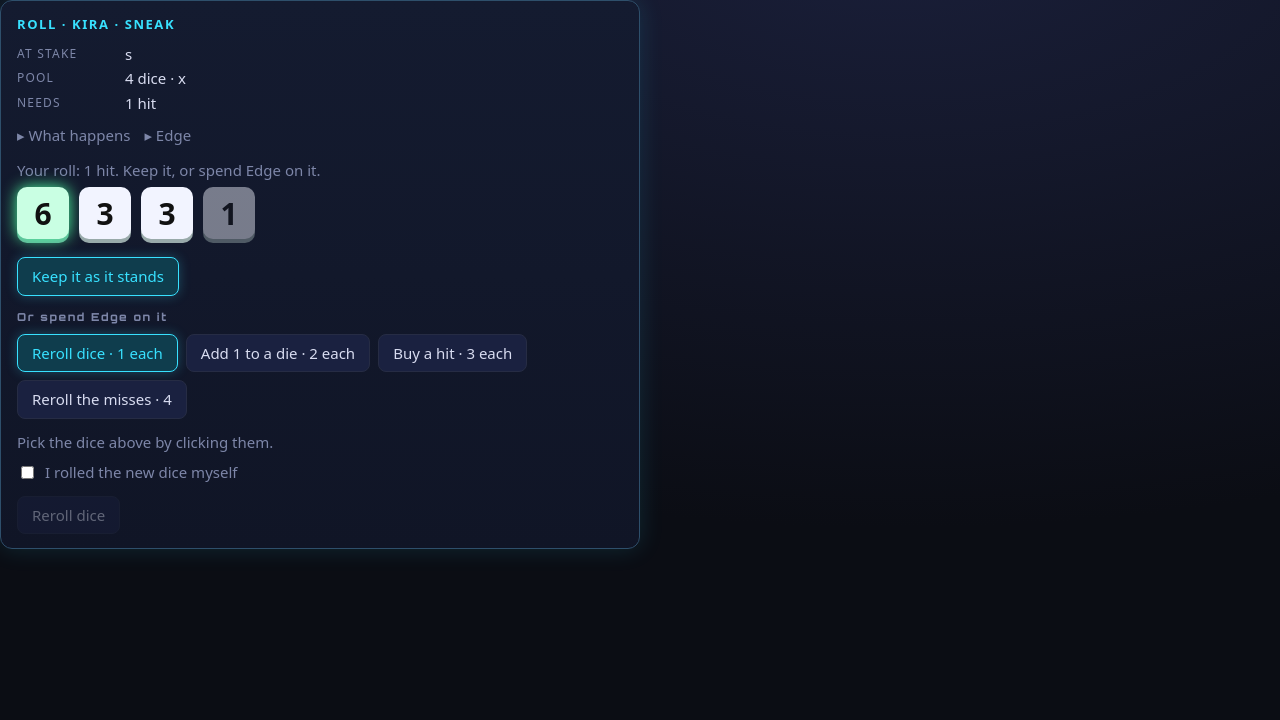
a roll that is held › will not spend what the player does not have, and says so, without sending
Click the radio button labelled "Buy a hit · 3 each" at (453, 353), box [378,334,527,372]
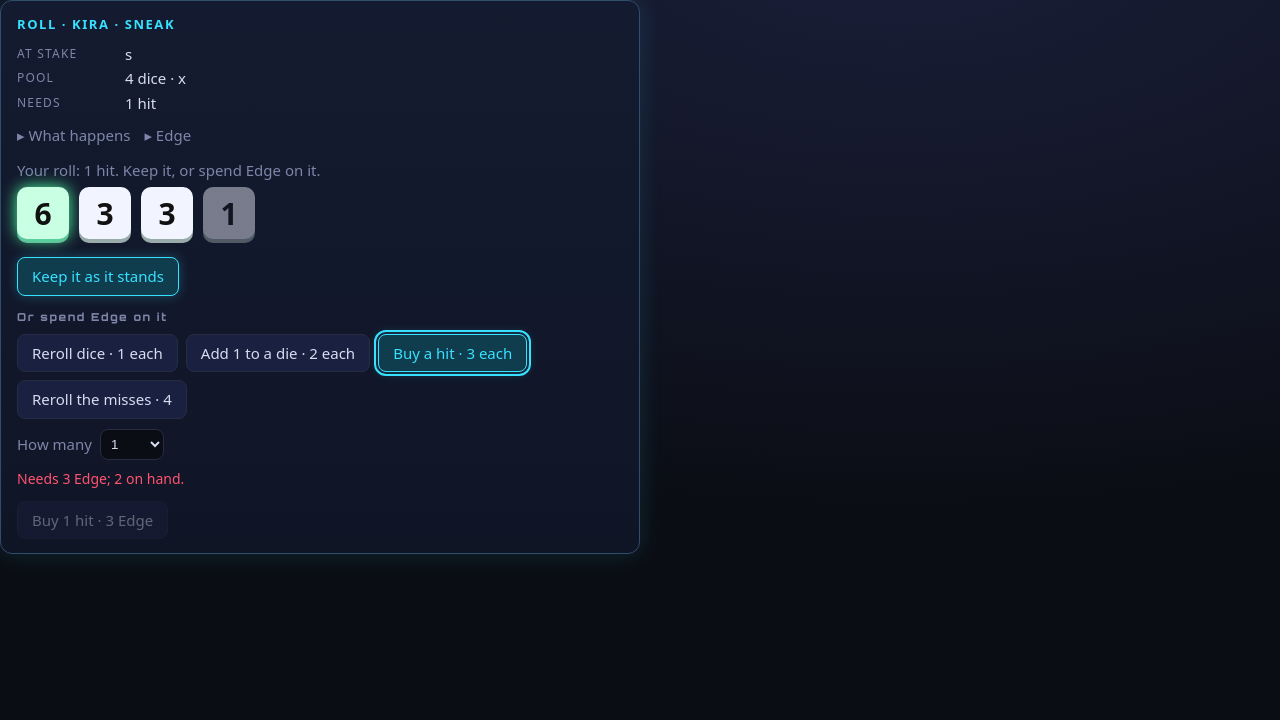
expect the button "Buy 1 hit · 3 Edge" is disabled: met, box [17,500,168,539]
expect the message reads "Needs 3 Edge; 2 on hand.": met, box [17,468,184,488]
